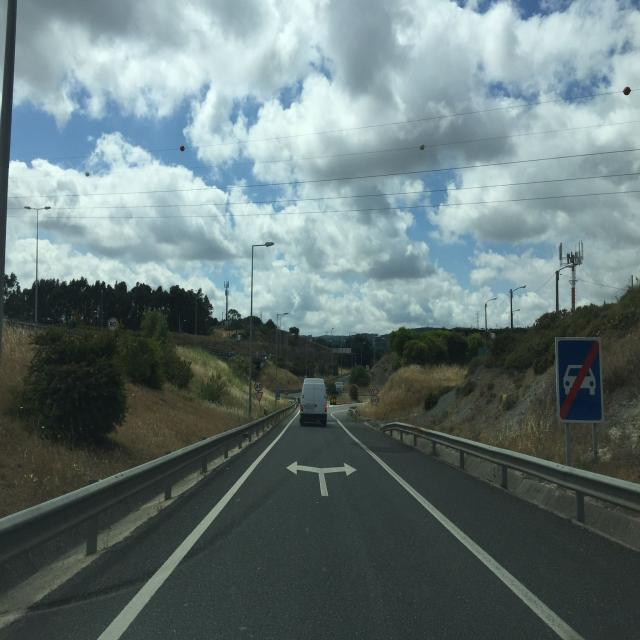car: (298, 377, 328, 427)
